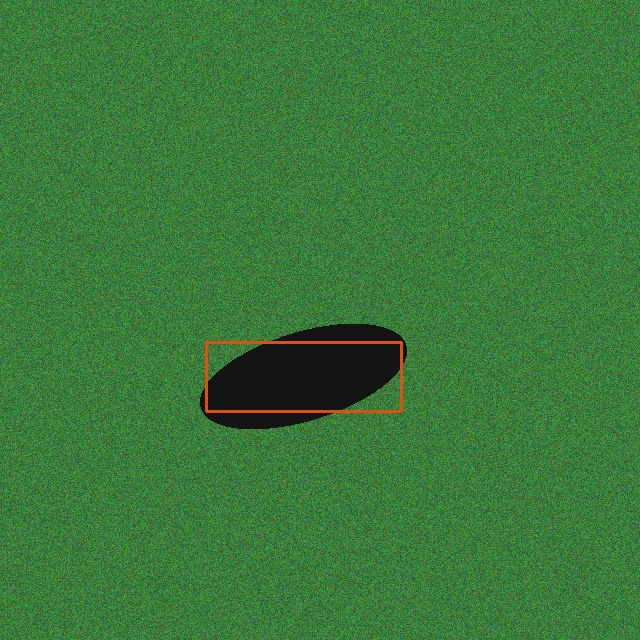blister beetle: (196, 332, 411, 421)
